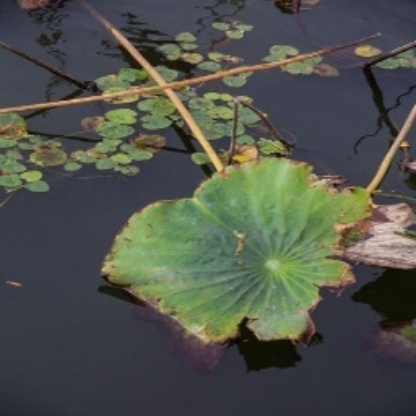leaf: (101, 157, 368, 346)
